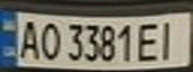1: (115, 20, 136, 63)
3: (63, 20, 84, 62), (81, 20, 100, 62)
8: (100, 21, 118, 63)
A: (15, 16, 42, 61)
E: (136, 19, 163, 63)
I: (154, 17, 184, 62)
O: (36, 19, 63, 61)
